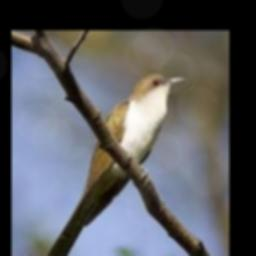Cuckoo: (36, 74, 185, 256)
